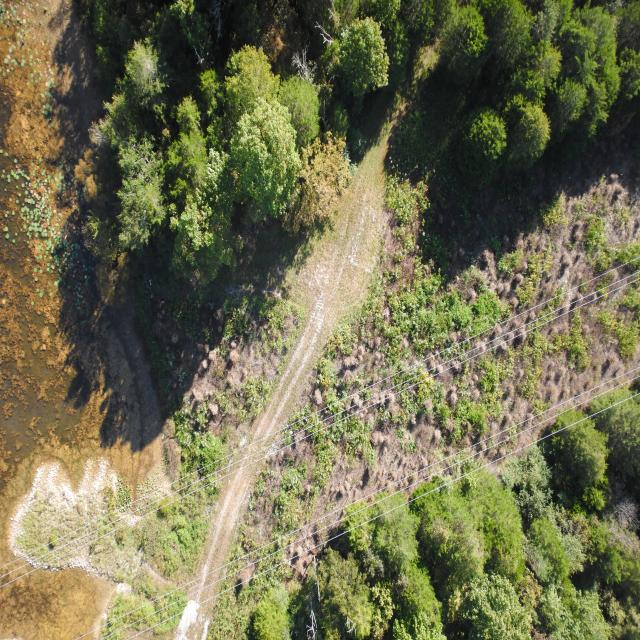Area of Interest: (133, 10, 640, 258), (257, 390, 640, 631)
